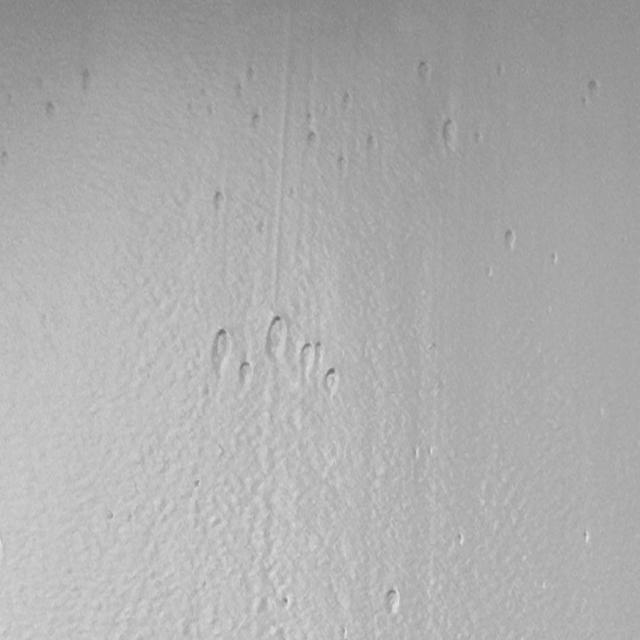pin holes: (262, 316, 288, 357), (208, 329, 232, 370), (300, 340, 322, 379), (438, 116, 460, 149), (382, 587, 404, 616), (322, 368, 341, 397), (414, 59, 434, 86), (236, 362, 254, 391), (76, 69, 96, 95), (40, 100, 60, 125), (500, 228, 519, 254), (584, 76, 604, 100), (209, 188, 227, 213), (242, 62, 259, 84), (248, 111, 264, 134), (335, 154, 350, 177), (339, 90, 354, 111), (305, 129, 319, 150), (365, 134, 380, 152), (454, 532, 466, 550), (548, 252, 560, 269), (580, 530, 592, 547), (257, 219, 267, 236)
